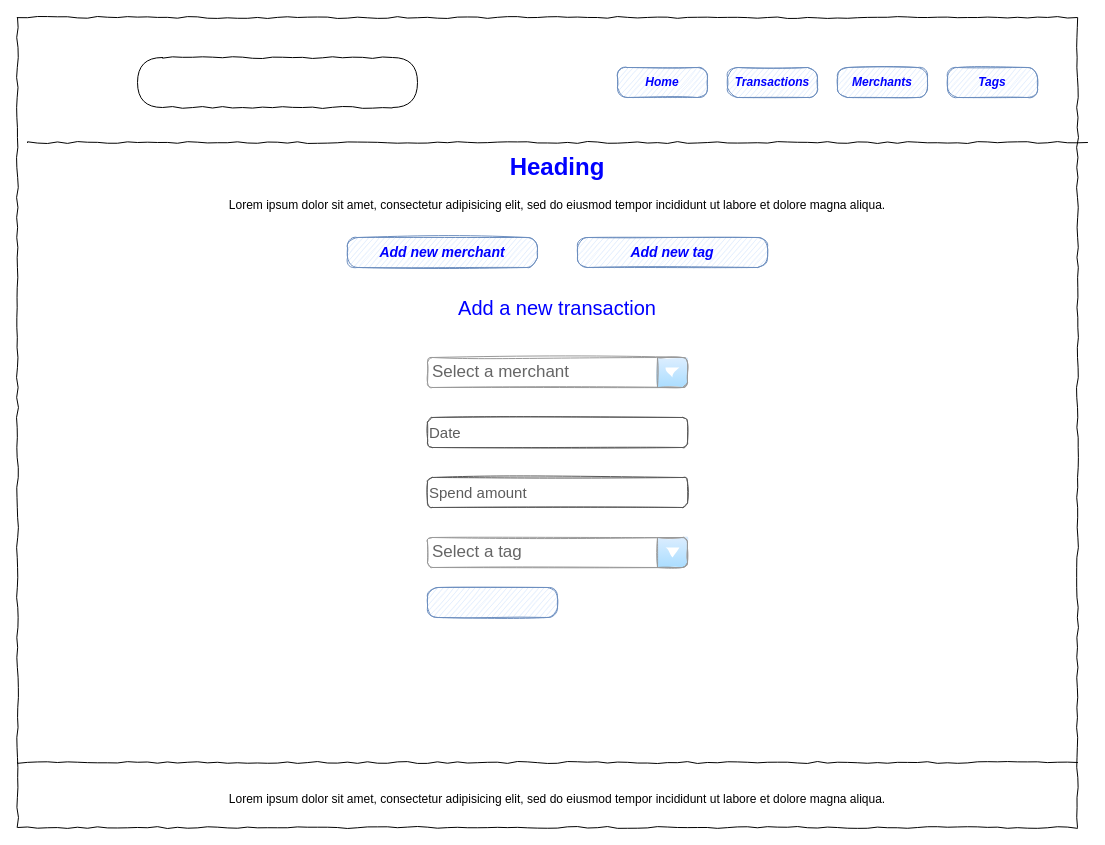
Some shapes in this 1105 by 845 pixel diagram are drawn without their labels. The centre of each missing label's shape, as x and y in pixels:
"Add transaction" goes at point (492, 602).
"Spend 'N' Track" goes at point (277, 82).
